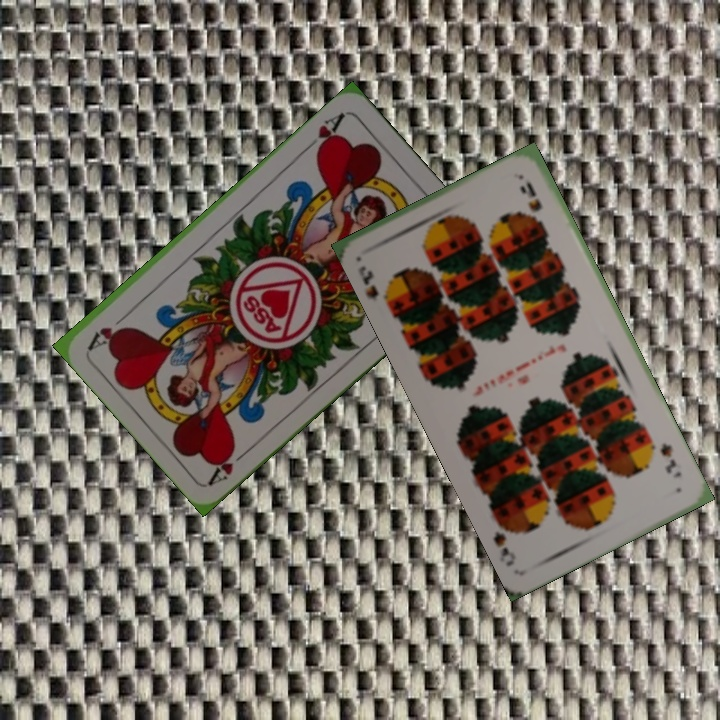HA: (300, 108, 347, 157), (205, 442, 255, 488)
S9: (354, 261, 391, 304), (656, 439, 684, 481)
